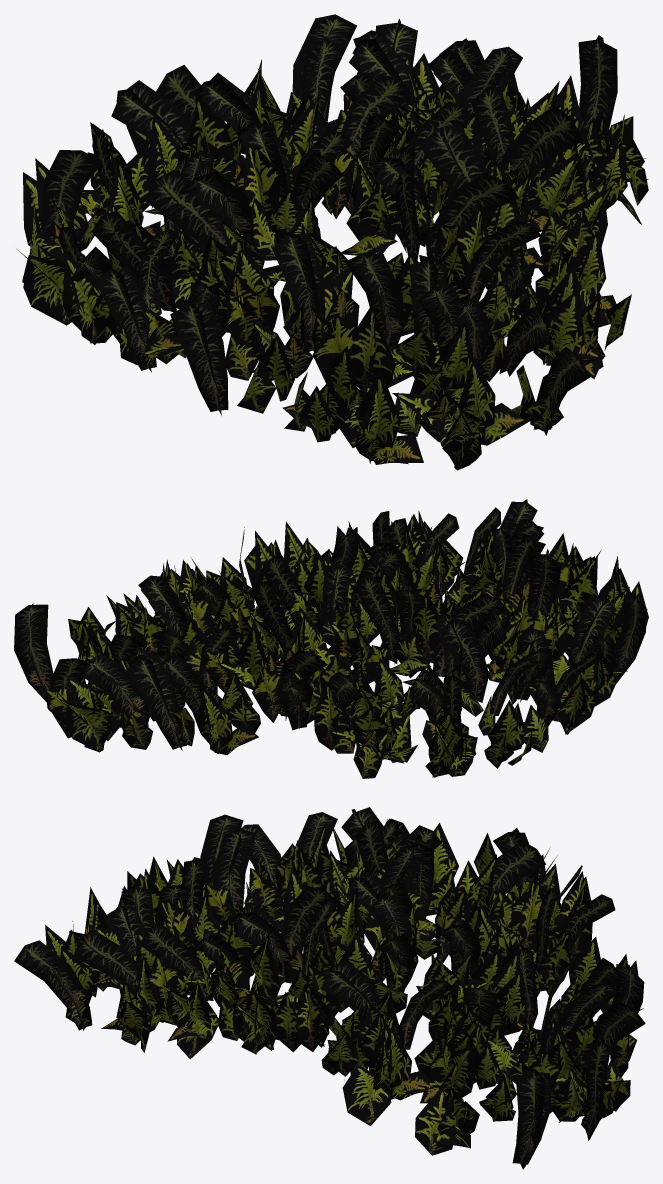
Rendered from Scan_Moss_A.fbx.
3 views of the same model, one above another, from view 1: azimuth 30°, elevation 25°; view 2: azimuth 150°, elevation 25°; view 3: azimuth 270°, elevation 25° (orthographic). The views are drawn at different scales.
Visible parts, largest first — view 1: Scan_Moss_A_LOD0; view 2: Scan_Moss_A_LOD0; view 3: Scan_Moss_A_LOD0.
Part boxes in pixels (box(x1,y1,x2,y2)): Scan_Moss_A_LOD0: box(16, 14, 648, 470); Scan_Moss_A_LOD0: box(14, 499, 648, 778); Scan_Moss_A_LOD0: box(14, 807, 645, 1169).
Size of the model in its own units: 0.6728 by 0.2027 by 0.6881.
